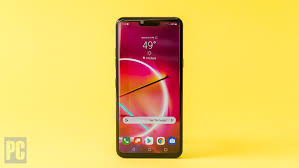lg: (113, 14, 186, 161)
